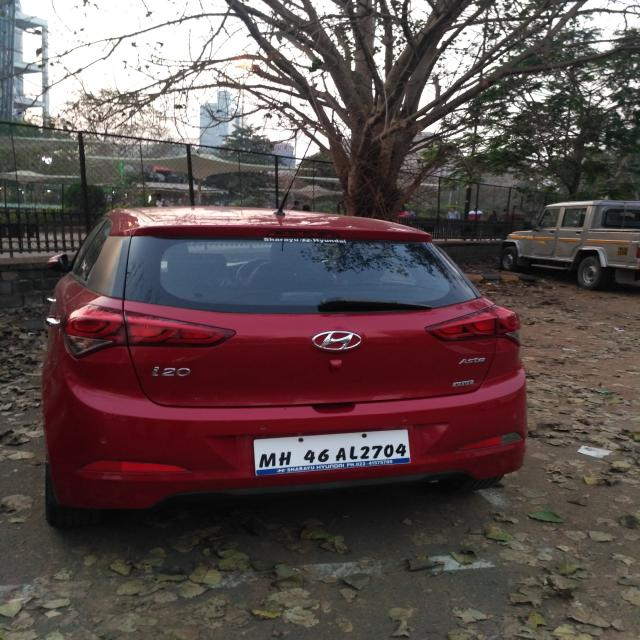Number-Plate: (256, 433, 413, 473)
